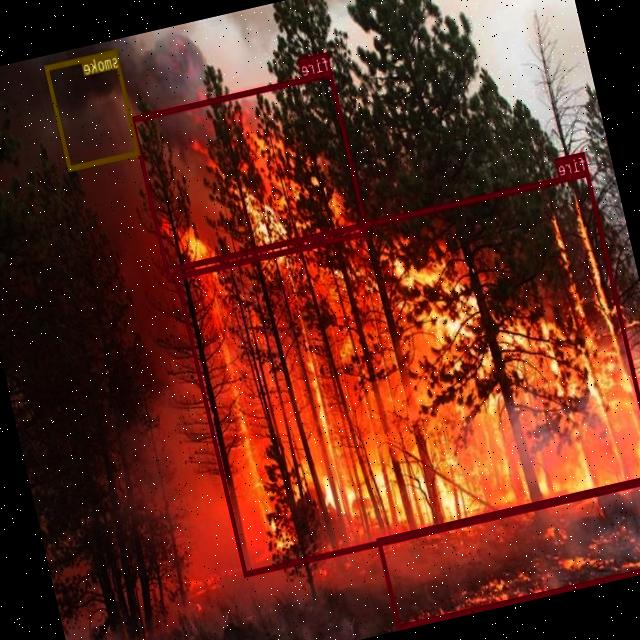fire: (172, 168, 640, 575), (130, 70, 370, 280), (378, 468, 640, 627)
smoke: (46, 48, 140, 170)
